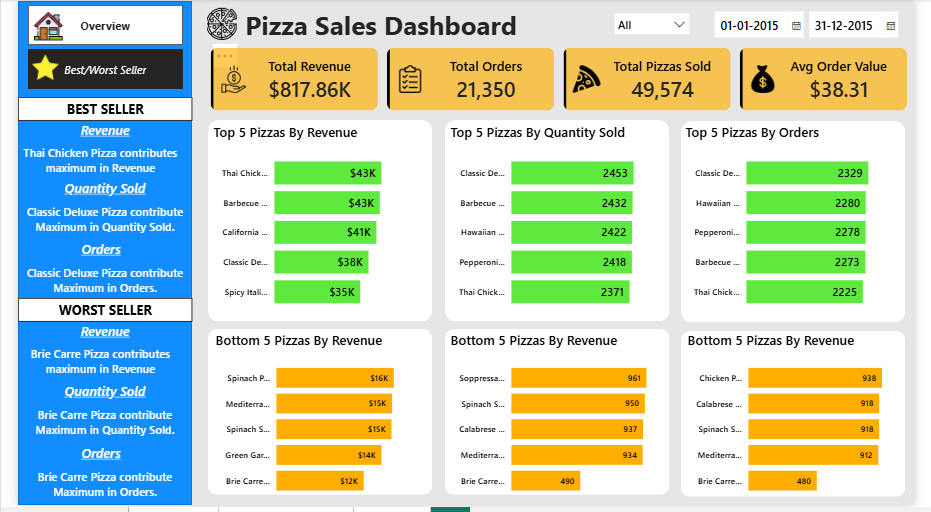

This screenshot's page, from the dashboard's own definition file:
{"tool":"powerbi","page":{"name":"Best/Worst Seller","canvas":[1280,720],"ordinal":1},"visuals":[{"type":"shape","box":[0,0,248.6,720],"z":0},{"type":"textbox","box":[313.9,2.9,409,60.5],"z":1000},{"type":"image","box":[268.2,5.7,45.4,53.9],"z":2000},{"type":"cardVisual","fields":{"Data":["order_details.Total Revenue","order_details.Total Orders","order_details.Total Pizzas Sold","order_details.Average Order Value"]},"box":[266.8,58.1,1012,106.3],"z":3000},{"type":"shape","box":[272.1,170.1,320.3,287.7],"z":4000},{"type":"barChart","title":"Top 5 Pizzas By Revenue","fields":{"Category":["pizza_types.Pizza Name"],"Y":["order_details.Total Revenue"]},"box":[275,174.3,314.6,280.6],"z":5000},{"type":"shape","box":[272.1,469.1,320,236.7],"z":6000},{"type":"slicer","fields":{"Values":["pizza_types.category"]},"box":[843.7,9.9,121.9,52.4],"z":7000},{"type":"slicer","fields":{"Values":["Dim_Date.Date"]},"box":[981.1,7.1,286.3,52.4],"z":8000},{"type":"pageNavigator","box":[14.2,5.7,221.1,120.5],"z":9000},{"type":"image","box":[22.7,11.3,41.1,49.6],"z":10000},{"type":"image","box":[18.4,69.4,41.1,49.6],"z":11000},{"type":"textbox","box":[0,137.5,249.4,34],"z":12000},{"type":"textbox","box":[56.7,168,134.6,38.3],"z":13000},{"type":"textbox","box":[0,202.7,235.7,52.9],"z":14000},{"type":"textbox","box":[57.1,252,134.3,38.6],"z":15000},{"type":"textbox","box":[0,287.1,248.6,55.7],"z":16000},{"type":"textbox","box":[0,423.8,249.4,34],"z":17000},{"type":"shape","box":[609.3,469.1,320.3,236.7],"z":18000},{"type":"shape","box":[946.8,472,320.3,236.7],"z":19000},{"type":"shape","box":[609.4,170.1,320.3,287.7],"z":20000},{"type":"shape","box":[946.8,171.5,320.3,287.7],"z":21000},{"type":"barChart","title":"Bottom 5 Pizzas By Revenue","fields":{"Category":["pizza_types.Pizza Name"],"Y":["order_details.Total Revenue"]},"box":[277.2,471.4,314.1,248.6],"z":22000},{"type":"barChart","title":"Top 5 Pizzas By Quantity Sold","fields":{"Category":["pizza_types.Pizza Name"],"Y":["Sum(order_details.quantity)"]},"box":[612.3,174.3,314.6,280.6],"z":23000},{"type":"barChart","title":"Top 5 Pizzas By Orders","fields":{"Category":["pizza_types.Pizza Name"],"Y":["order_details.Total Orders"]},"box":[949.1,174.7,315.8,280.5],"z":24000},{"type":"barChart","title":"Bottom 5 Pizzas By Revenue","fields":{"Category":["pizza_types.Pizza Name"],"Y":["Sum(order_details.quantity)"]},"box":[613.1,471.4,314.1,248.6],"z":25000},{"type":"barChart","title":"Bottom 5 Pizzas By Revenue","fields":{"Category":["pizza_types.Pizza Name"],"Y":["order_details.Total Orders"]},"box":[950.8,471.4,314.1,248.6],"z":26000},{"type":"textbox","box":[0,365.7,248.6,50],"z":27000},{"type":"textbox","box":[51.4,339.2,134.3,38.6],"z":28000},{"type":"textbox","box":[56.7,455.1,134.6,38.3],"z":29000},{"type":"textbox","box":[0,490.7,235.7,52.9],"z":30000},{"type":"textbox","box":[57.1,540.9,134.3,38.6],"z":31000},{"type":"textbox","box":[0,576.8,248.6,55.7],"z":32000},{"type":"textbox","box":[0,665.7,248.6,50],"z":33000},{"type":"textbox","box":[51.4,629.8,134.3,38.6],"z":34000}]}

Visuals, with their boxes in screenshot pixels (x1, y1, x2, y2), scaled from the page's 1280x720 canvas onto the 931x512 screenshot:
shape: [0,0,181,511]
textbox: [228,2,526,45]
image: [195,4,228,42]
cardVisual - order_details.Total Revenue x order_details.Total Orders: [194,41,930,117]
shape: [198,121,431,326]
"Top 5 Pizzas By Revenue" barChart: [200,124,429,323]
shape: [198,334,431,502]
slicer - pizza_types.category: [614,7,702,44]
slicer - Dim_Date.Date: [714,5,922,42]
pageNavigator: [10,4,171,90]
image: [17,8,46,43]
image: [13,49,43,85]
textbox: [0,98,181,122]
textbox: [41,119,139,147]
textbox: [0,144,171,182]
textbox: [42,179,139,207]
textbox: [0,204,181,244]
textbox: [0,301,181,326]
shape: [443,334,676,502]
shape: [689,336,922,504]
shape: [443,121,676,326]
shape: [689,122,922,327]
"Bottom 5 Pizzas By Revenue" barChart: [202,335,430,511]
"Top 5 Pizzas By Quantity Sold" barChart: [445,124,674,323]
"Top 5 Pizzas By Orders" barChart: [690,124,920,324]
"Bottom 5 Pizzas By Revenue" barChart: [446,335,674,511]
"Bottom 5 Pizzas By Revenue" barChart: [692,335,920,511]
textbox: [0,260,181,296]
textbox: [37,241,135,269]
textbox: [41,324,139,351]
textbox: [0,349,171,387]
textbox: [42,385,139,412]
textbox: [0,410,181,450]
textbox: [0,473,181,509]
textbox: [37,448,135,475]
